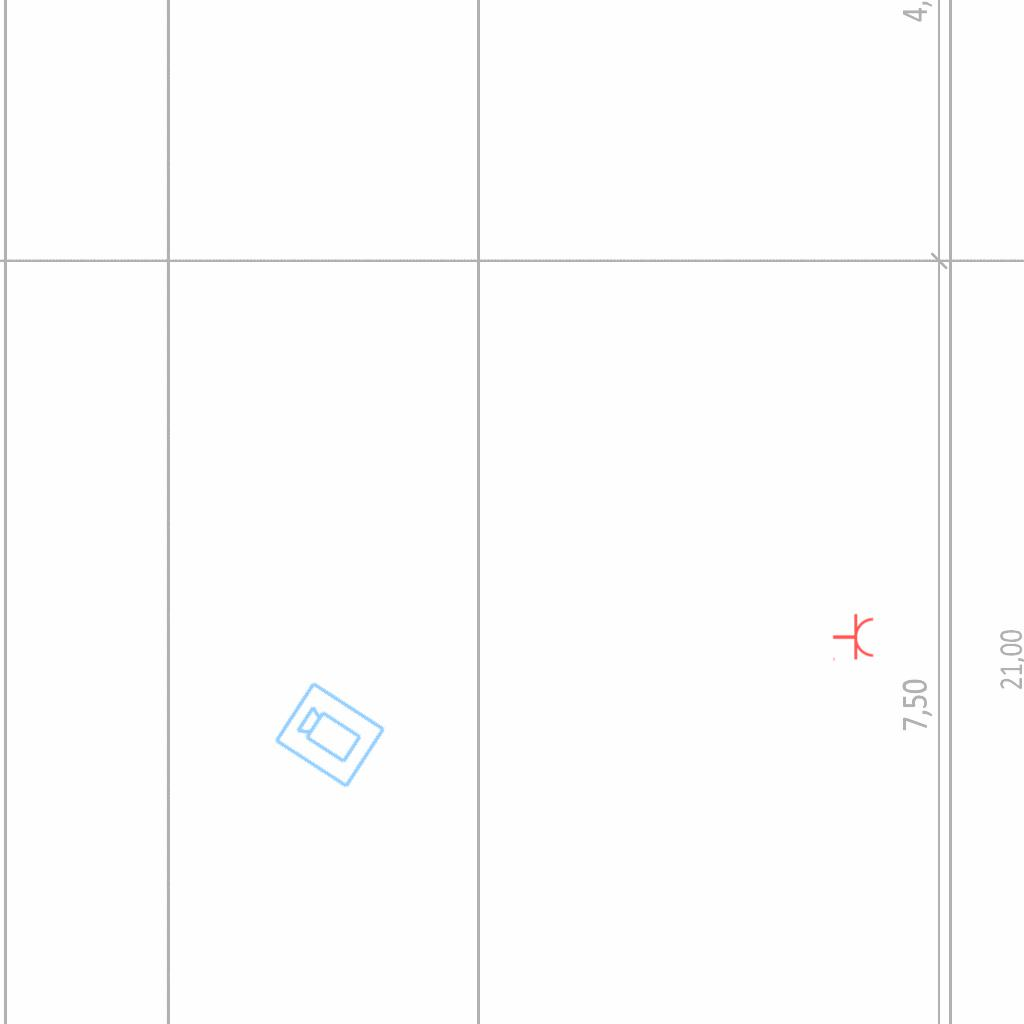KFO_Kamera_mit_Festobjektiv: (271, 677, 390, 792)
Schukosteckdose_einfach: (832, 613, 875, 663)
